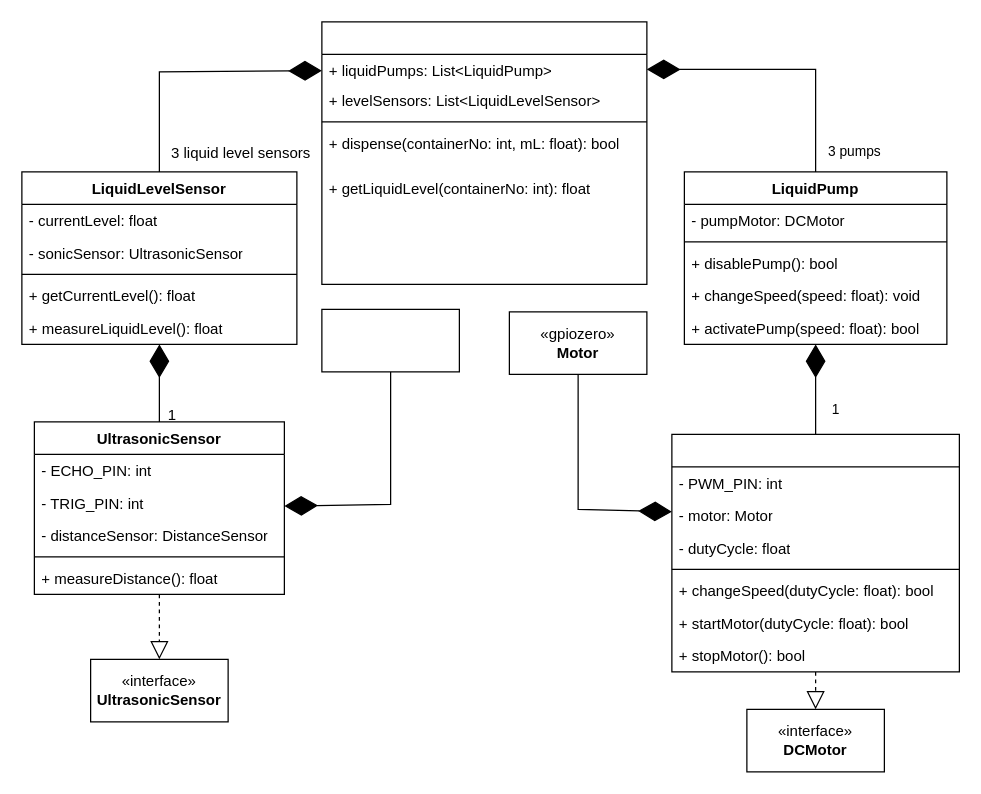
Some shapes in this 981 by 794 pixel diagram are drawn without their labels. The box of each missing label's shape, as (x1, y1, x2, y2) in pixels:
DCMotor: (671, 433, 959, 672)
IOController: (321, 21, 647, 284)
«gpiozero» DistanceSensor: (321, 308, 459, 372)
